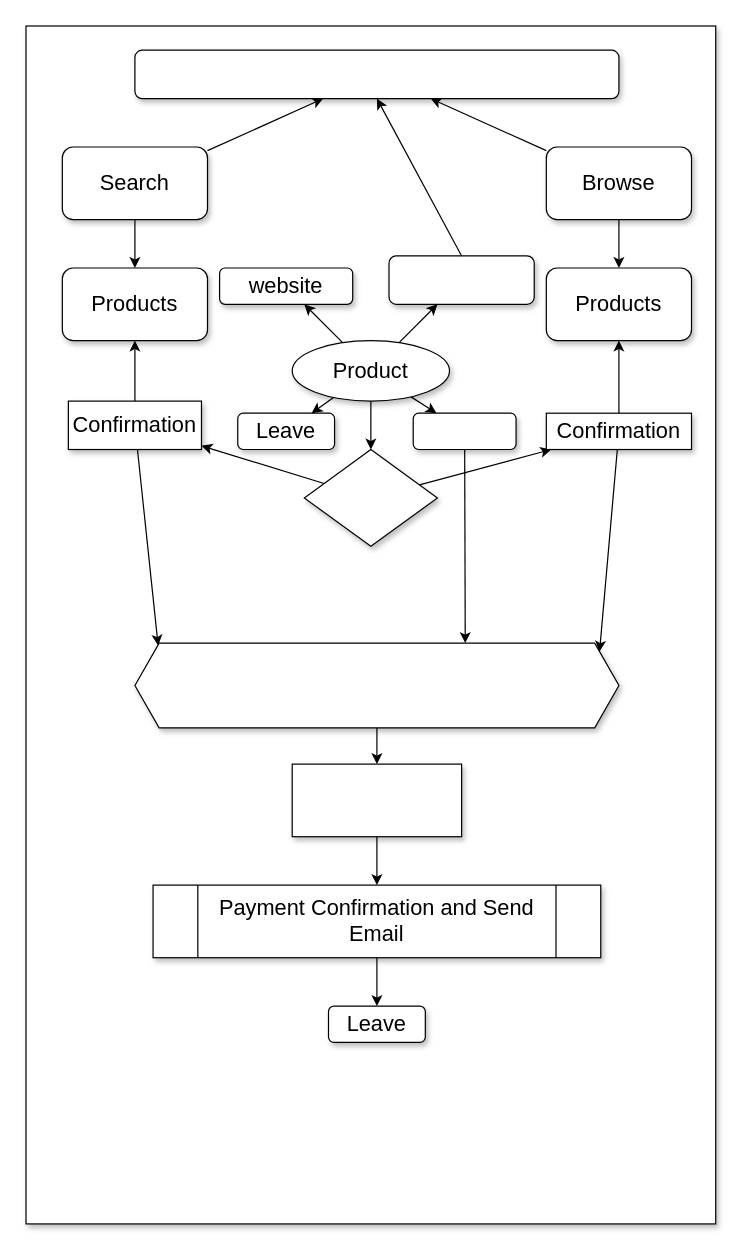
Image size: 744x1254. Some labels were removed from this diagram. Each missing label, with the centre of its shape:
Add to cart: point (371, 499)
Cart: point (377, 686)
Checkout: point (465, 432)
continue shopping: point (462, 281)
View Payment: point (377, 801)
Website Address: point (377, 75)
